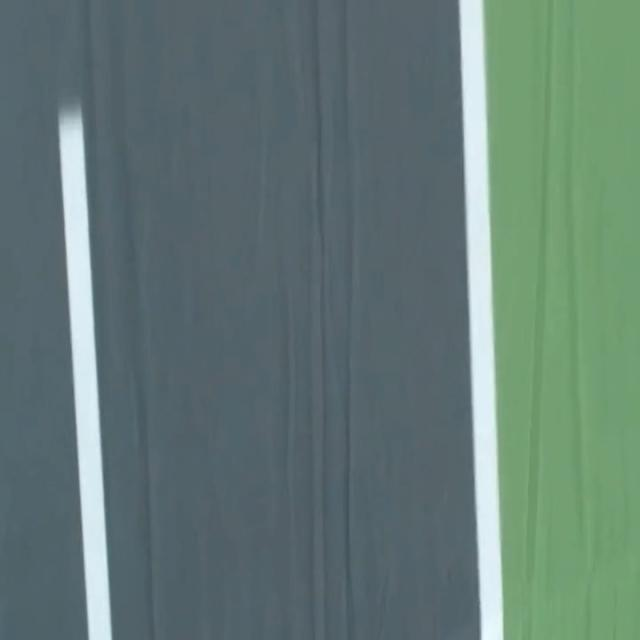center: (59, 106, 112, 639)
right: (459, 0, 503, 639)
